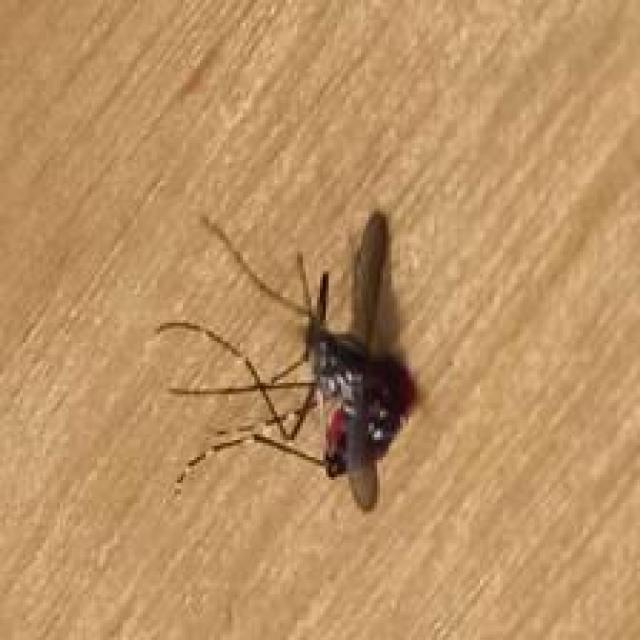Aedes albopictus: (153, 207, 418, 513)
